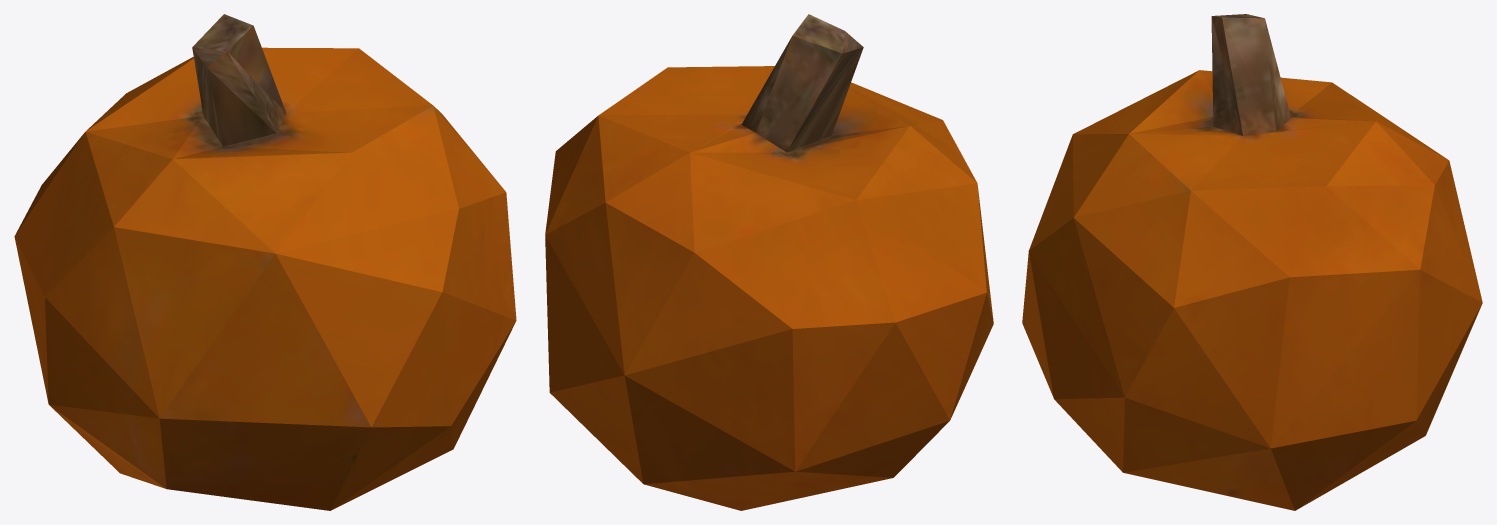
The model's file is GS_NATURE_PUMPKIN_03_GALI.glb.
3 views of the same model, side by side, from view 1: azimuth 30°, elevation 25°; view 2: azimuth 150°, elevation 25°; view 3: azimuth 270°, elevation 25° (orthographic). The views are drawn at different scales.
Parts seen in each view (by area): view 1: GS_NATURE_PUMPKIN_03_GALI; view 2: GS_NATURE_PUMPKIN_03_GALI; view 3: GS_NATURE_PUMPKIN_03_GALI.
Part boxes in pixels (x1=…): GS_NATURE_PUMPKIN_03_GALI: x1=14, y1=14, x2=516, y2=510; GS_NATURE_PUMPKIN_03_GALI: x1=545, y1=14, x2=993, y2=510; GS_NATURE_PUMPKIN_03_GALI: x1=1022, y1=14, x2=1482, y2=510.
Bounding box in the file's own units: 0.5466 × 0.5522 × 0.545.
Materials: 1 (1 with a texture image).
